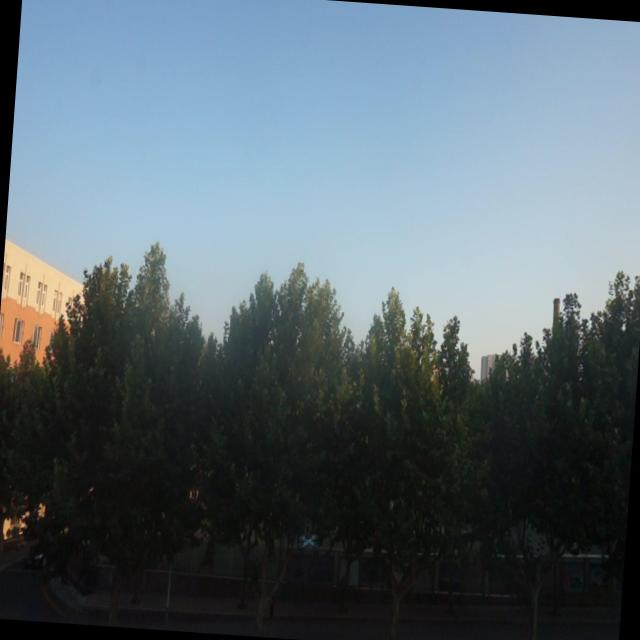drone: (296, 528, 320, 554)
